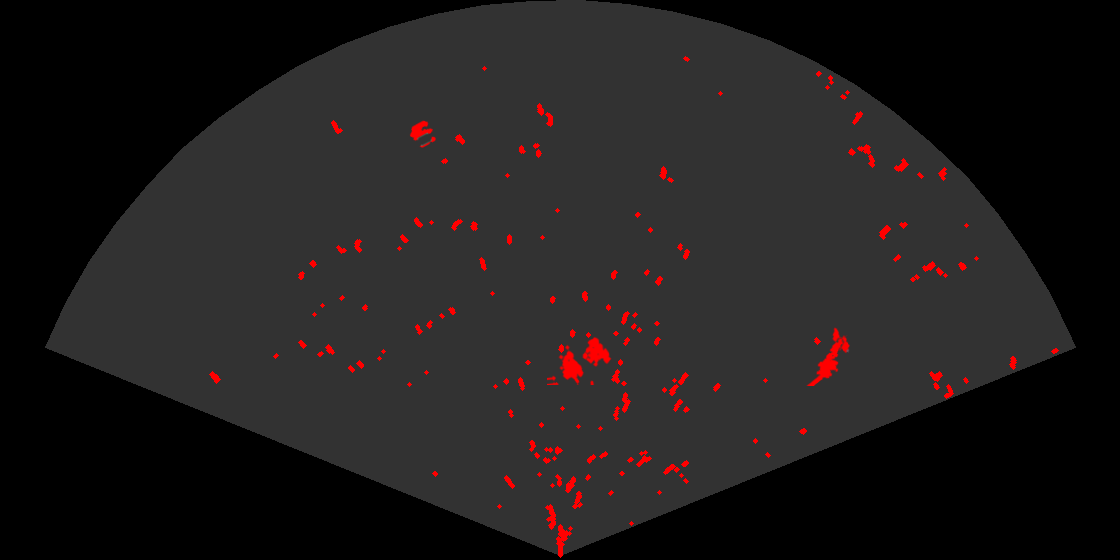AUV: (829, 326, 851, 355)
ball: (408, 119, 438, 149)
cage: (547, 335, 613, 385)
frogman: (805, 335, 849, 386)
